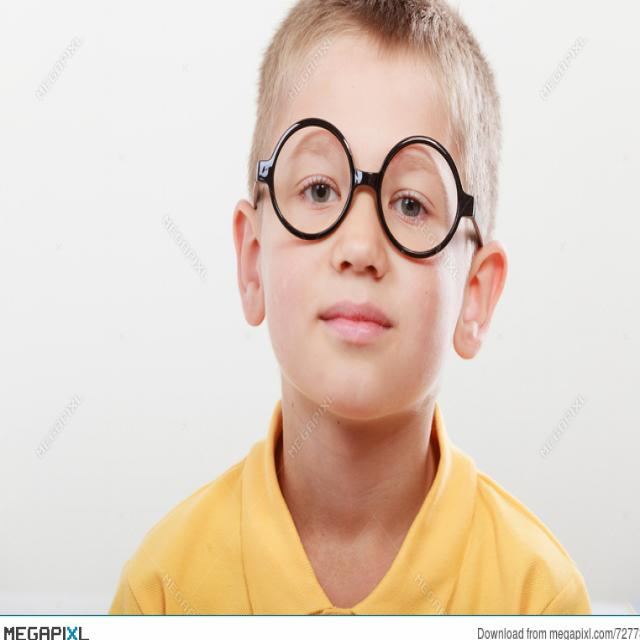Glasses: (250, 116, 486, 262)
